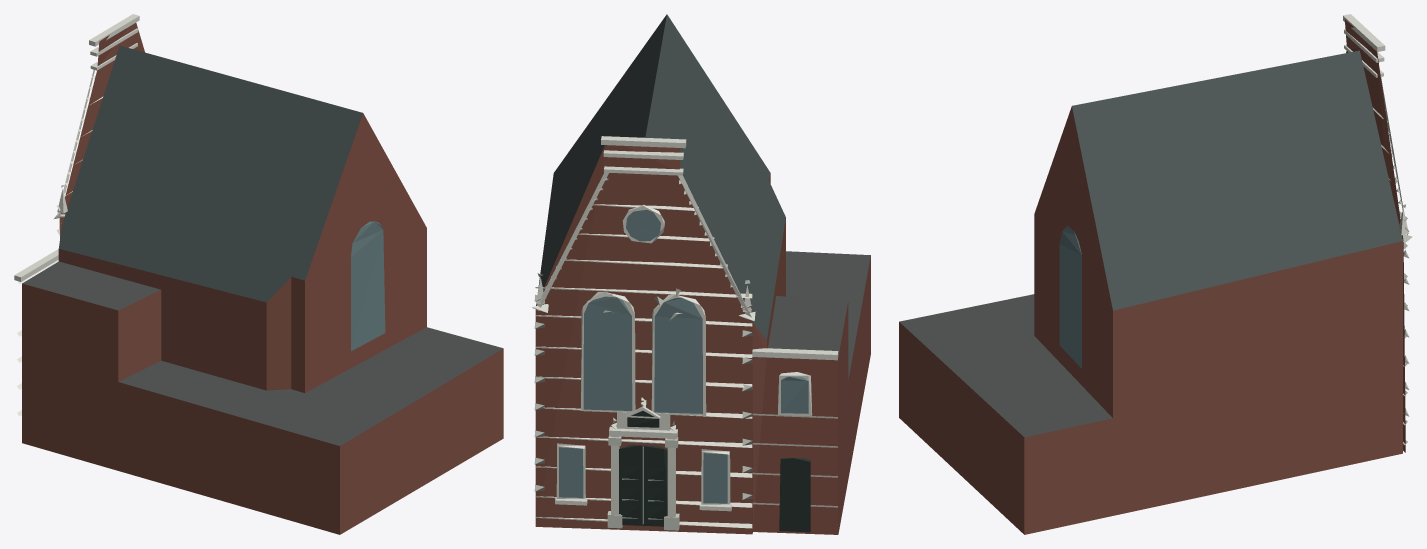
Rendered from gerard-dou-synagogue.lod1.glb.
The picture shows the model from 3 angles, left to right: view 1: azimuth 30°, elevation 25°; view 2: azimuth 150°, elevation 25°; view 3: azimuth 270°, elevation 25°; orthographic projection. The views are drawn at different scales.
Visible parts, largest first — view 1: gerard-dou-synagogue; view 2: gerard-dou-synagogue; view 3: gerard-dou-synagogue.
Boxes of the visible parts, bbox=[...] form: gerard-dou-synagogue: bbox=[14, 14, 503, 534]; gerard-dou-synagogue: bbox=[532, 14, 870, 534]; gerard-dou-synagogue: bbox=[899, 14, 1412, 534].
Size of the model in its own units: 18.75 by 17.07 by 20.85.
